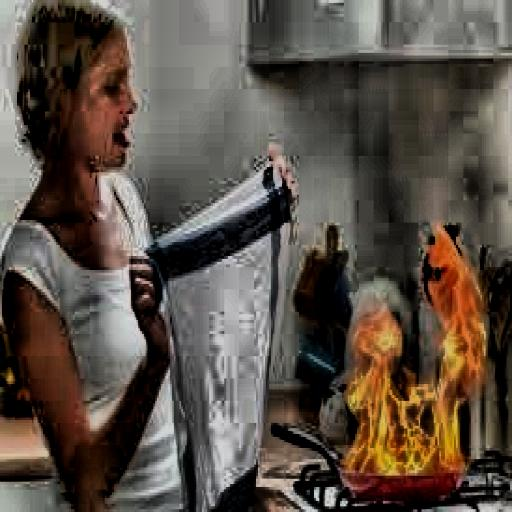fire: (336, 231, 504, 498)
